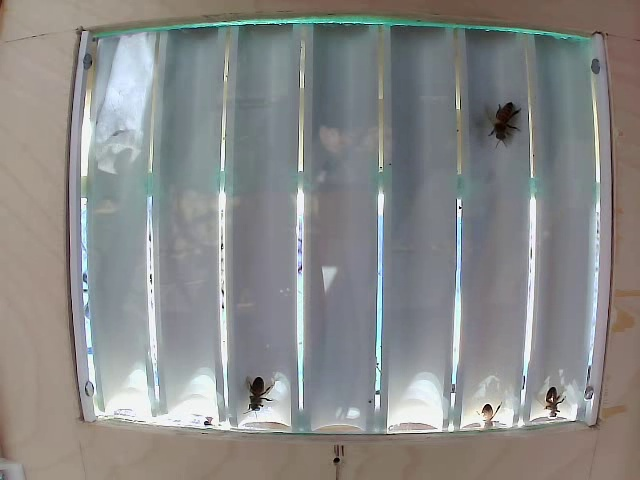bee: (487, 96, 525, 149), (246, 374, 278, 424)
